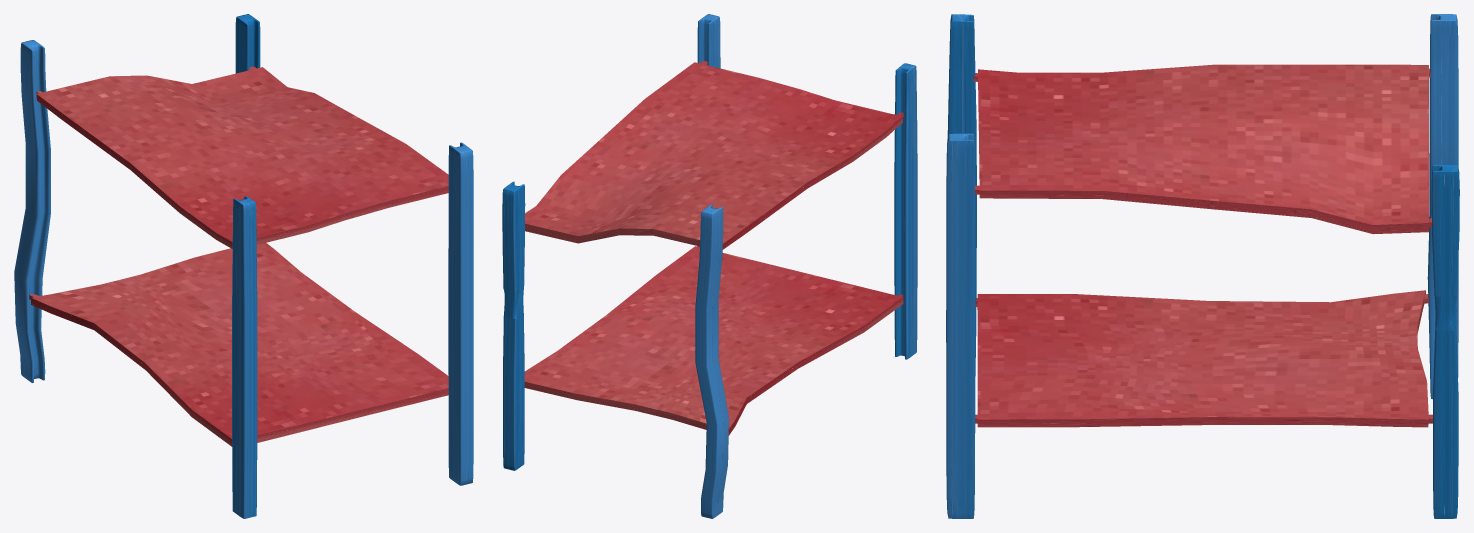
The model's file is ShelfBroken.fbx.
The picture shows the model from 3 angles, left to right: view 1: azimuth 30°, elevation 25°; view 2: azimuth 150°, elevation 25°; view 3: azimuth 270°, elevation 25°; orthographic projection. The views are drawn at different scales.
Parts seen in each view (by area): view 1: Shelf5_pCube2; view 2: Shelf5_pCube2; view 3: Shelf5_pCube2.
Part boxes in pixels (<box>): Shelf5_pCube2: <box>14,14,473,518</box>; Shelf5_pCube2: <box>502,14,917,518</box>; Shelf5_pCube2: <box>946,14,1459,518</box>.
Bounding box in the file's own units: 6.26 × 8.41 × 10.33.
2 materials, 2 textured.
